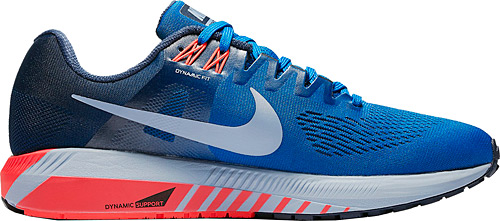nike: (70, 85, 285, 158)
